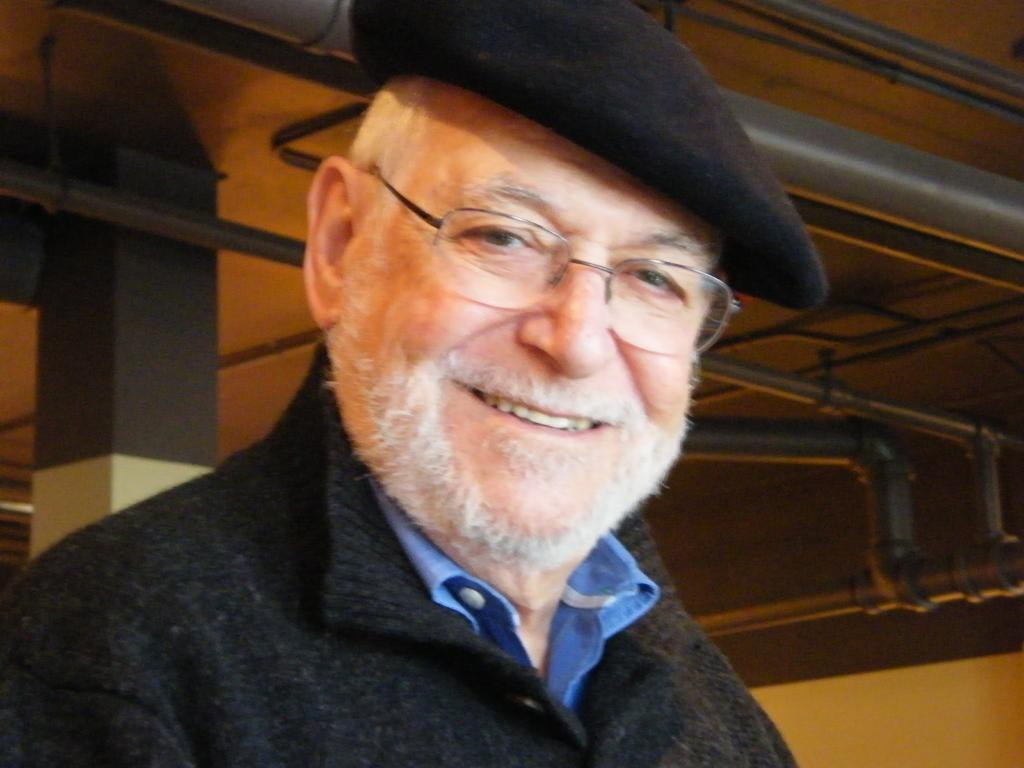Hat: (348, 0, 828, 316)
